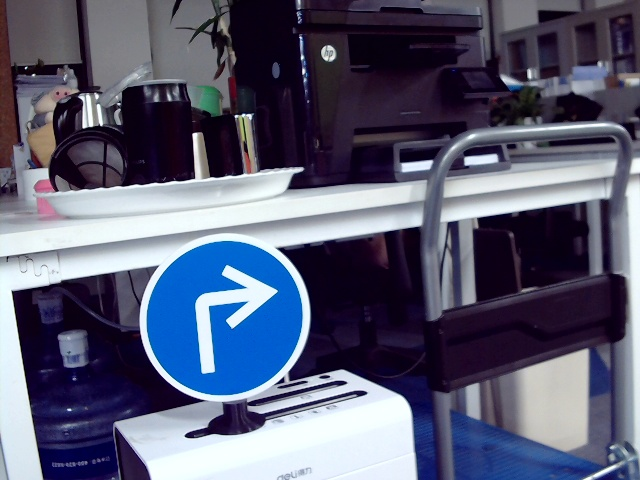turn_right: (182, 264, 274, 370)
